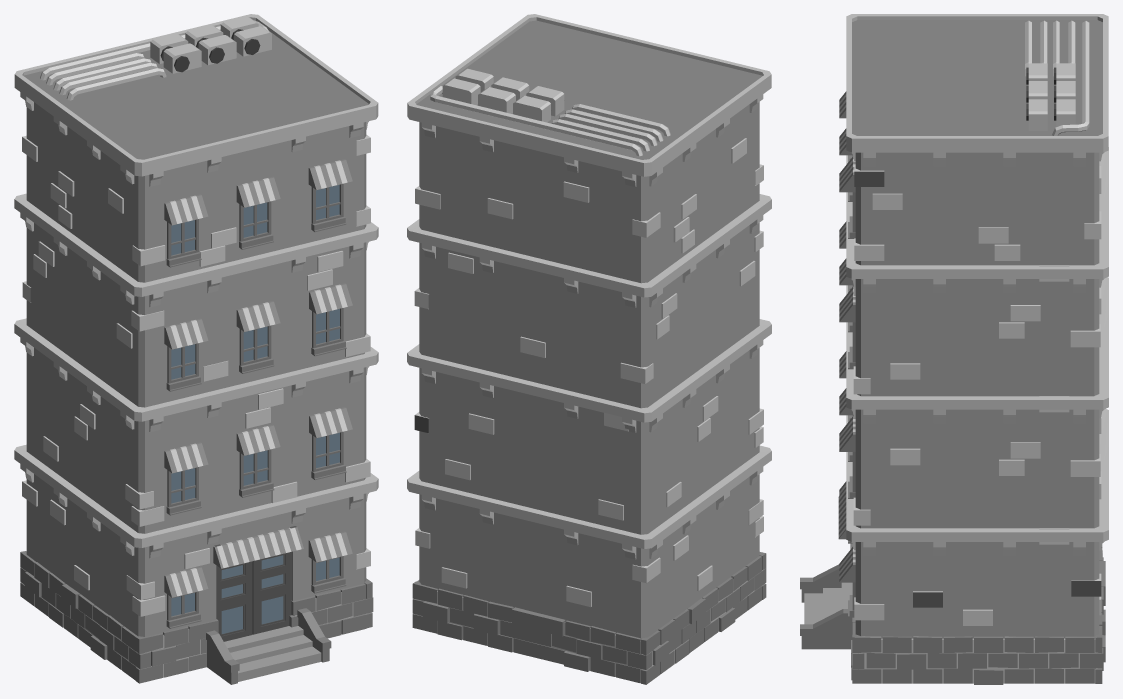
File: qtb_4story.fbx
The picture shows the model from 3 angles, left to right: view 1: azimuth 30°, elevation 25°; view 2: azimuth 150°, elevation 25°; view 3: azimuth 270°, elevation 25°; orthographic projection. The views are drawn at different scales.
Parts seen in each view (by area): view 1: qtb_4story_LOD0; view 2: qtb_4story_LOD0; view 3: qtb_4story_LOD0.
Boxes of the visible parts, x1=… form: qtb_4story_LOD0: x1=14, y1=14, x2=378, y2=684; qtb_4story_LOD0: x1=407, y1=14, x2=771, y2=684; qtb_4story_LOD0: x1=800, y1=14, x2=1108, y2=684.
Size of what is drawn, in the model's own units: 6.54 by 13.75 by 6.84.
1 material, 1 textured.
